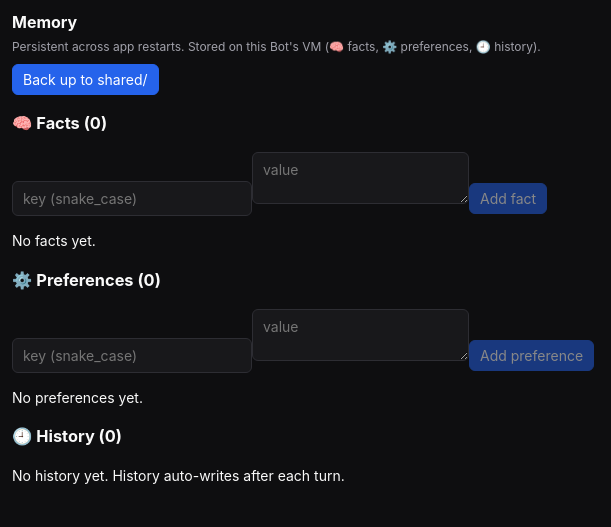
Test: MemoryPanel — backup to shared/ (v3.7.8) › shows an error when backup_memory fails
Click the button with test id "memory-backup". click: (85, 80)
box: [12,64,159,95]
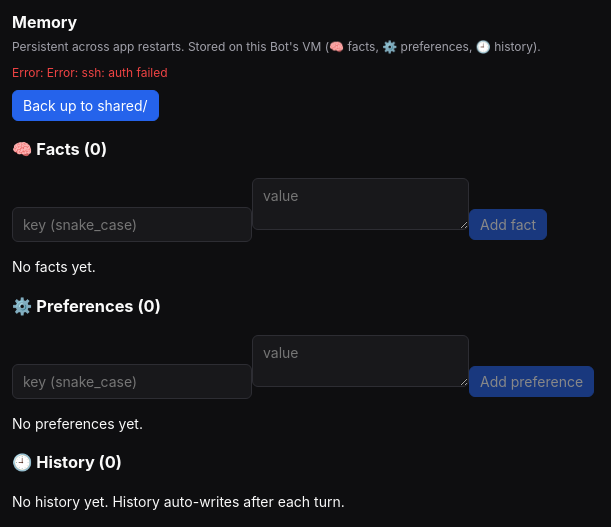
Now the text "Error: Error: ssh: auth failed" is shown, box [12,65,168,80]
